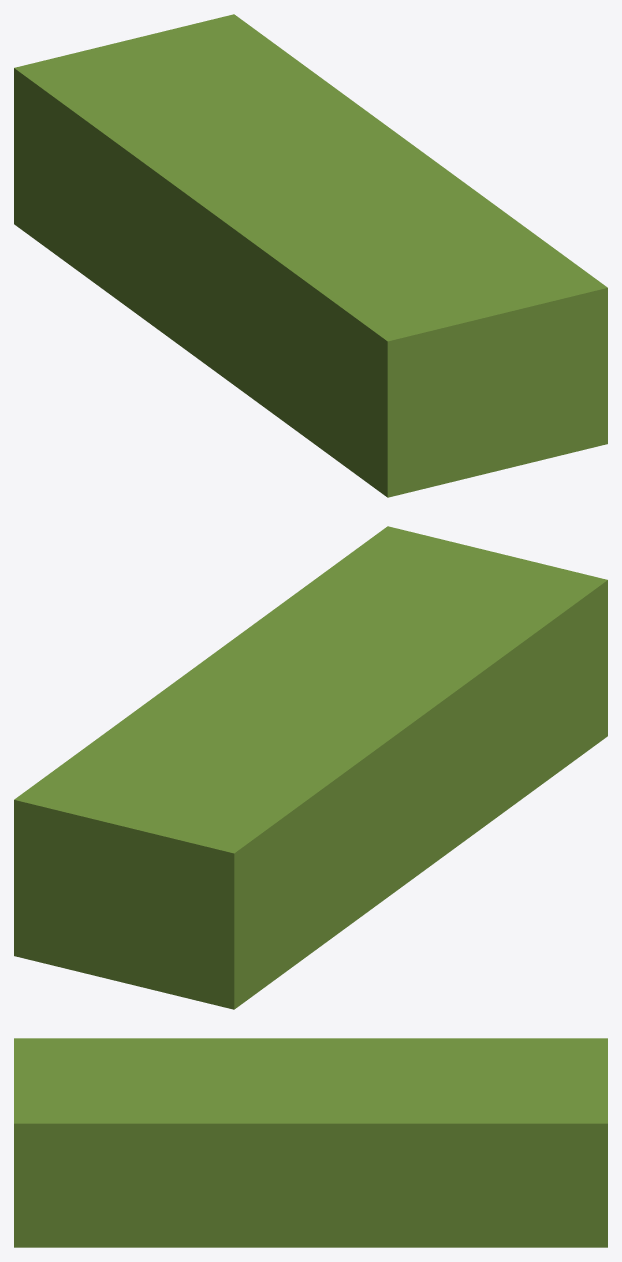
File: planlong.fbx
3 views of the same model, one above another, from view 1: azimuth 30°, elevation 25°; view 2: azimuth 150°, elevation 25°; view 3: azimuth 270°, elevation 25° (orthographic). The views are drawn at different scales.
Visible parts, largest first — view 1: wall; view 2: wall; view 3: wall.
Part boxes in pixels (x1,y1,x2,y2): wall: (14,14,607,497); wall: (14,526,607,1009); wall: (14,1038,607,1247).
Size of the model in its own units: 643 by 437 by 1890.
